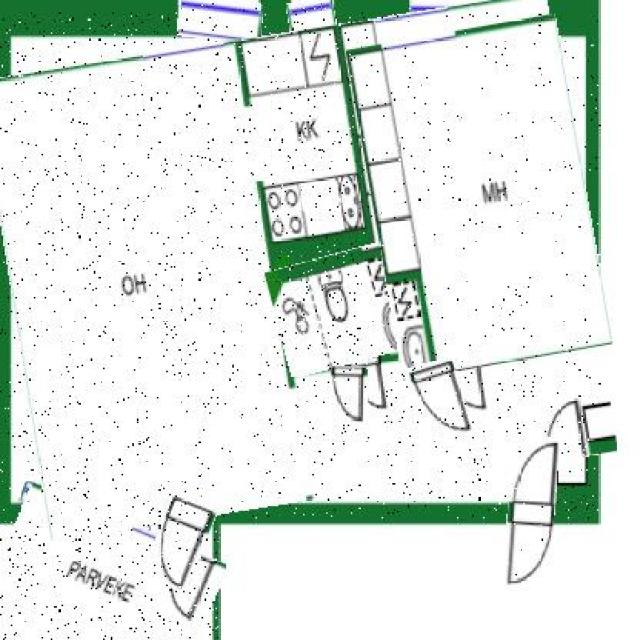door: (506, 437, 557, 592), (149, 492, 211, 591), (414, 358, 468, 440), (330, 366, 368, 423)
window: (19, 491, 152, 534), (177, 0, 261, 42), (409, 0, 486, 38), (288, 0, 335, 40)
zone: (0, 12, 600, 518), (360, 23, 600, 374), (0, 501, 218, 640), (274, 34, 371, 238), (271, 248, 409, 369)
